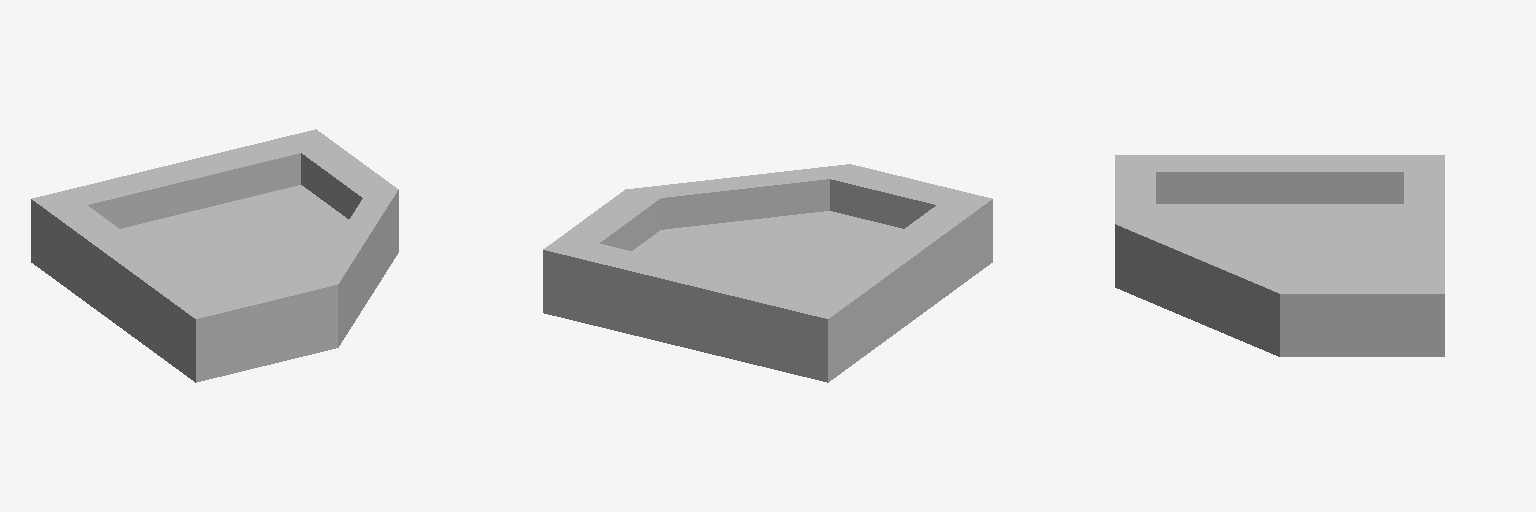
File: roof-flat-border-center-corner.obj
3 renders of one model, left to right at view 1: azimuth 30°, elevation 25°; view 2: azimuth 150°, elevation 25°; view 3: azimuth 270°, elevation 25°, orthographic.
Parts seen in each view (by area): view 1: roof-flat-border-center-corner; view 2: roof-flat-border-center-corner; view 3: roof-flat-border-center-corner.
Part boxes in pixels (bbox=[...]): roof-flat-border-center-corner: bbox=[31, 129, 398, 382]; roof-flat-border-center-corner: bbox=[543, 164, 992, 382]; roof-flat-border-center-corner: bbox=[1115, 155, 1444, 356].
Bounding box in the file's own units: 1 × 0.2125 × 1.